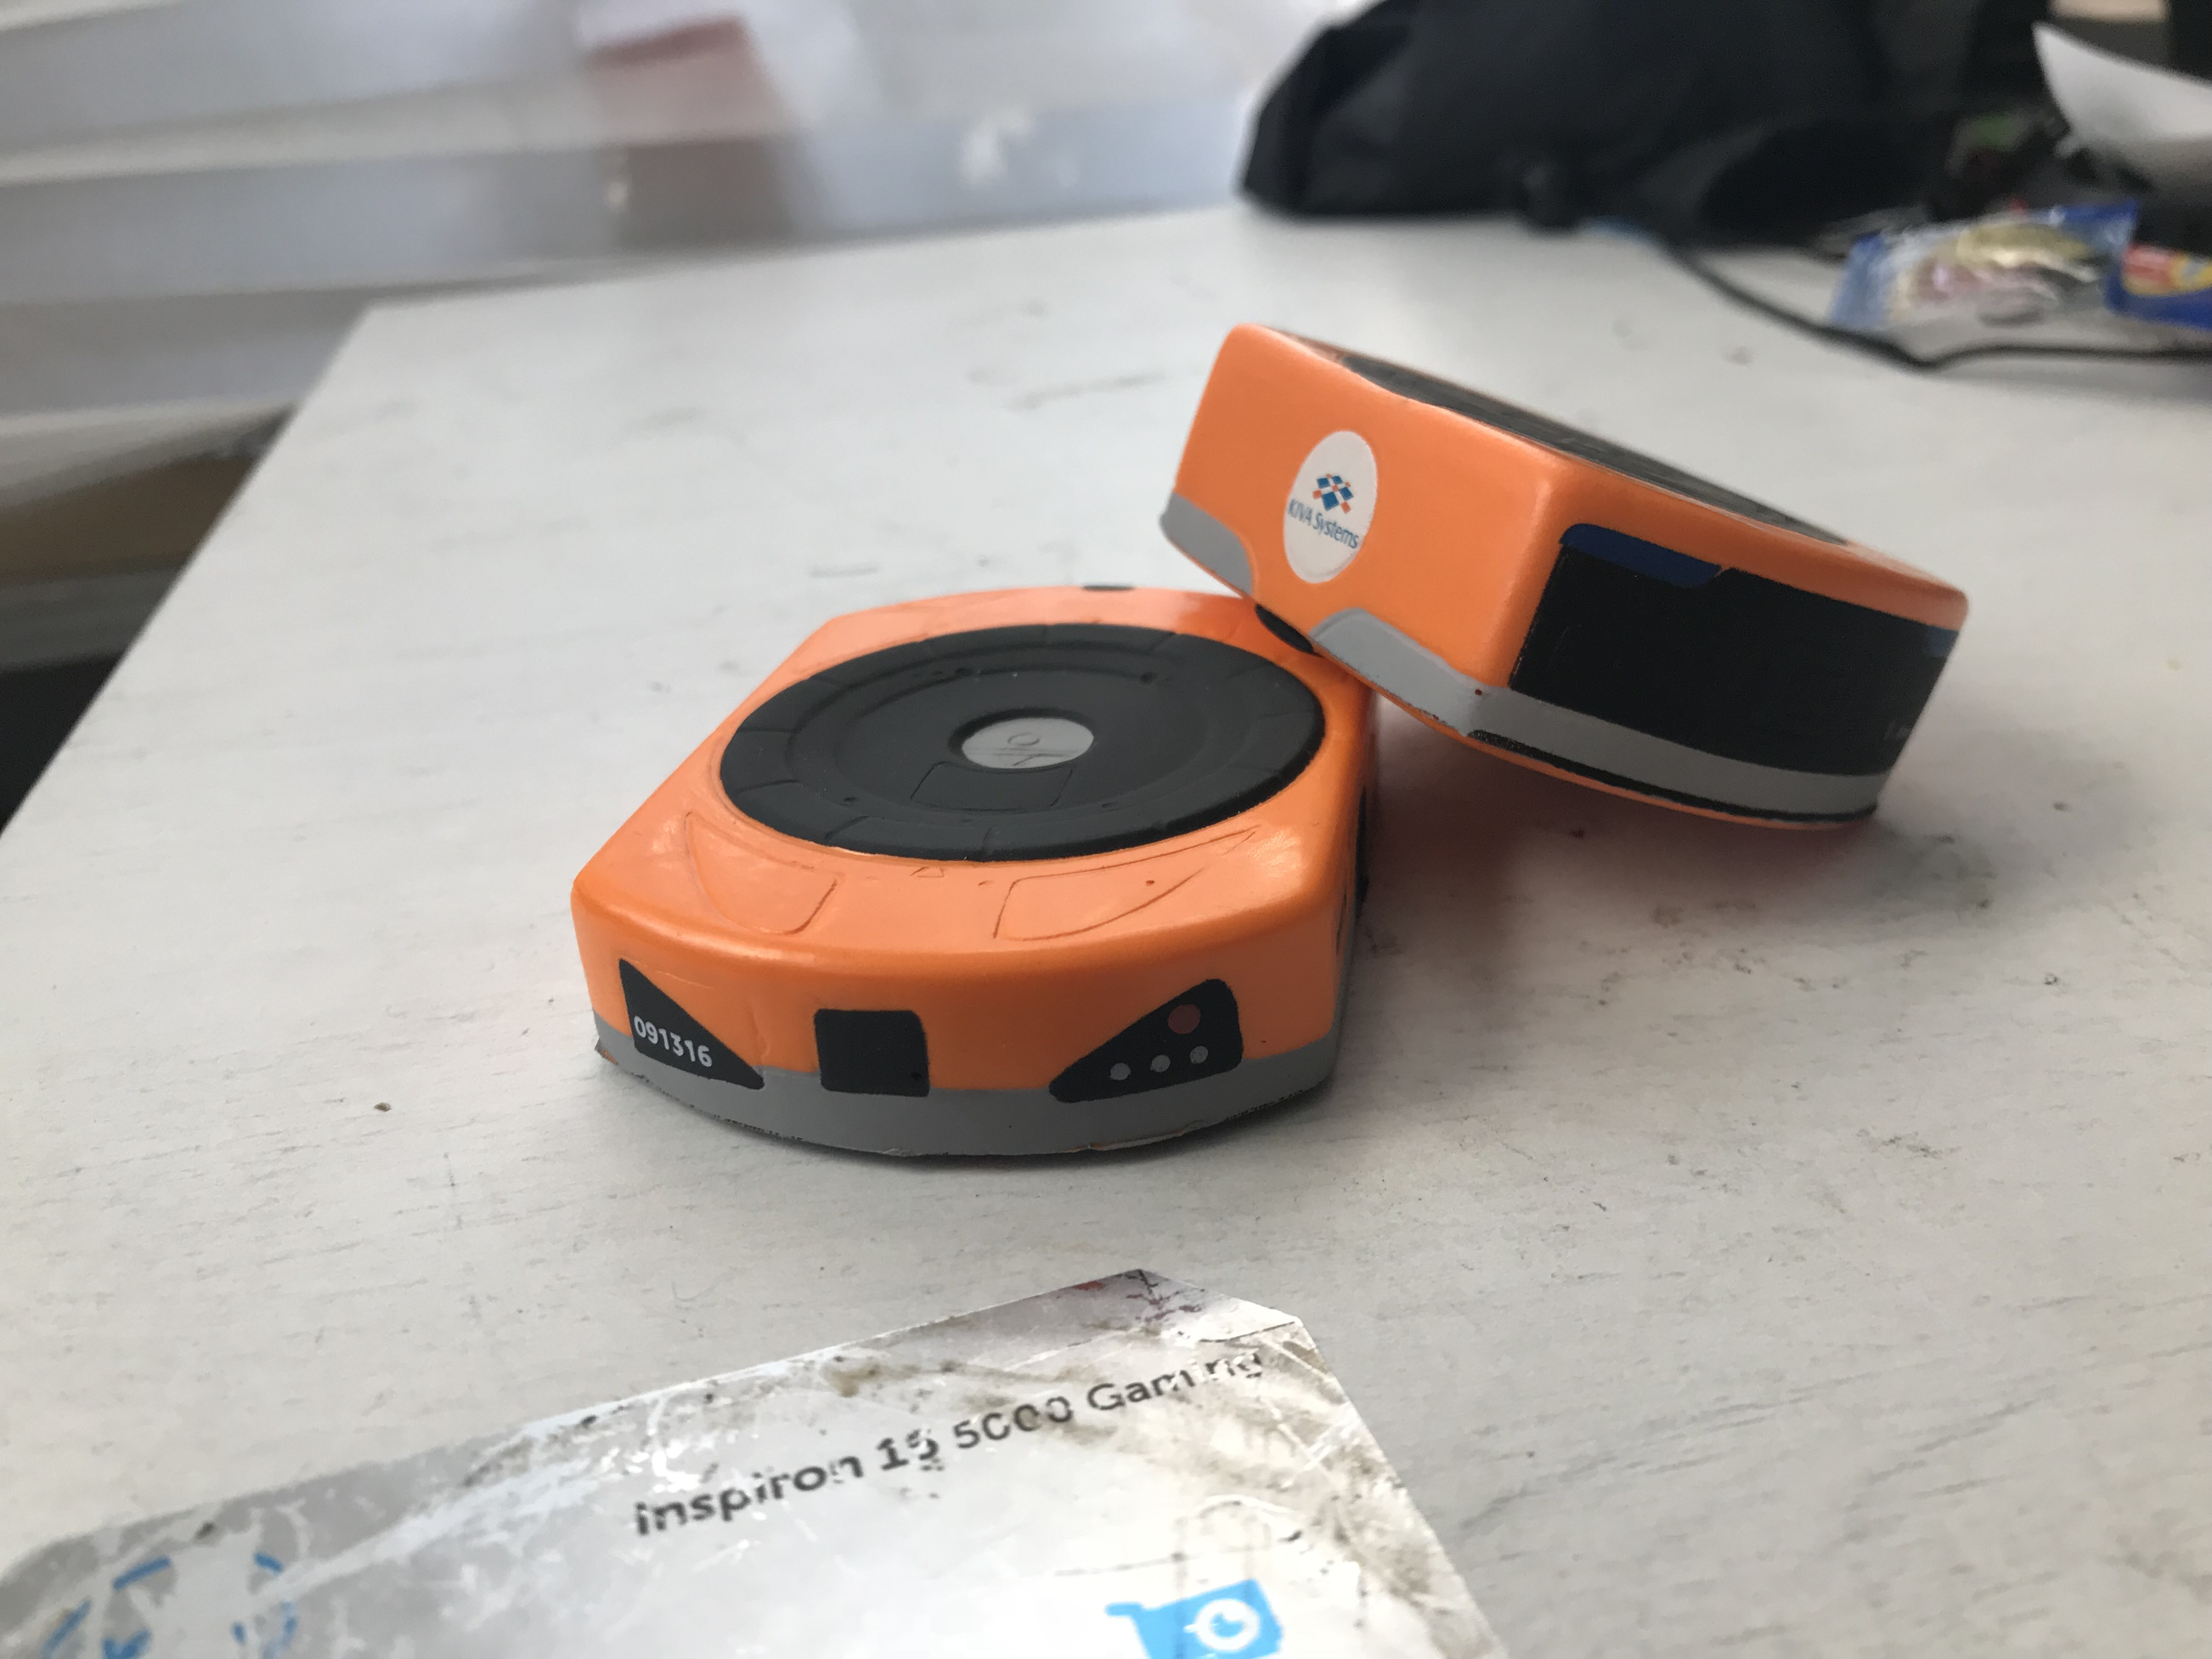amazon_bot: (556, 579, 1385, 1195), (1148, 308, 1982, 850)
